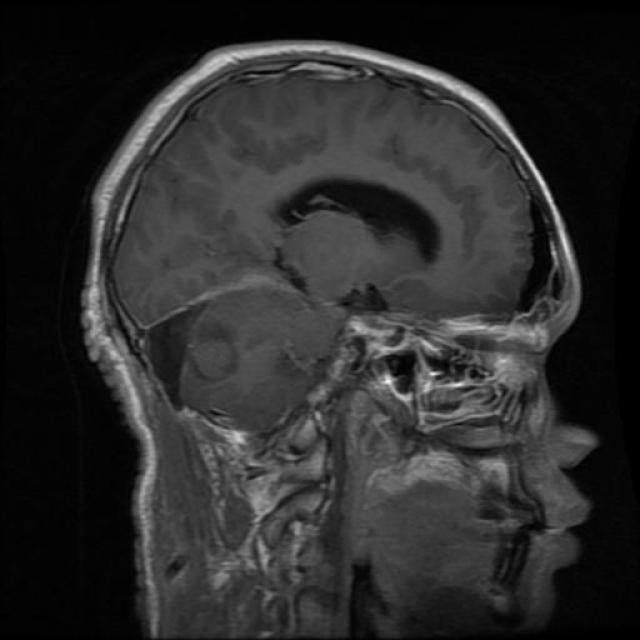glioma: (272, 176, 460, 268)
